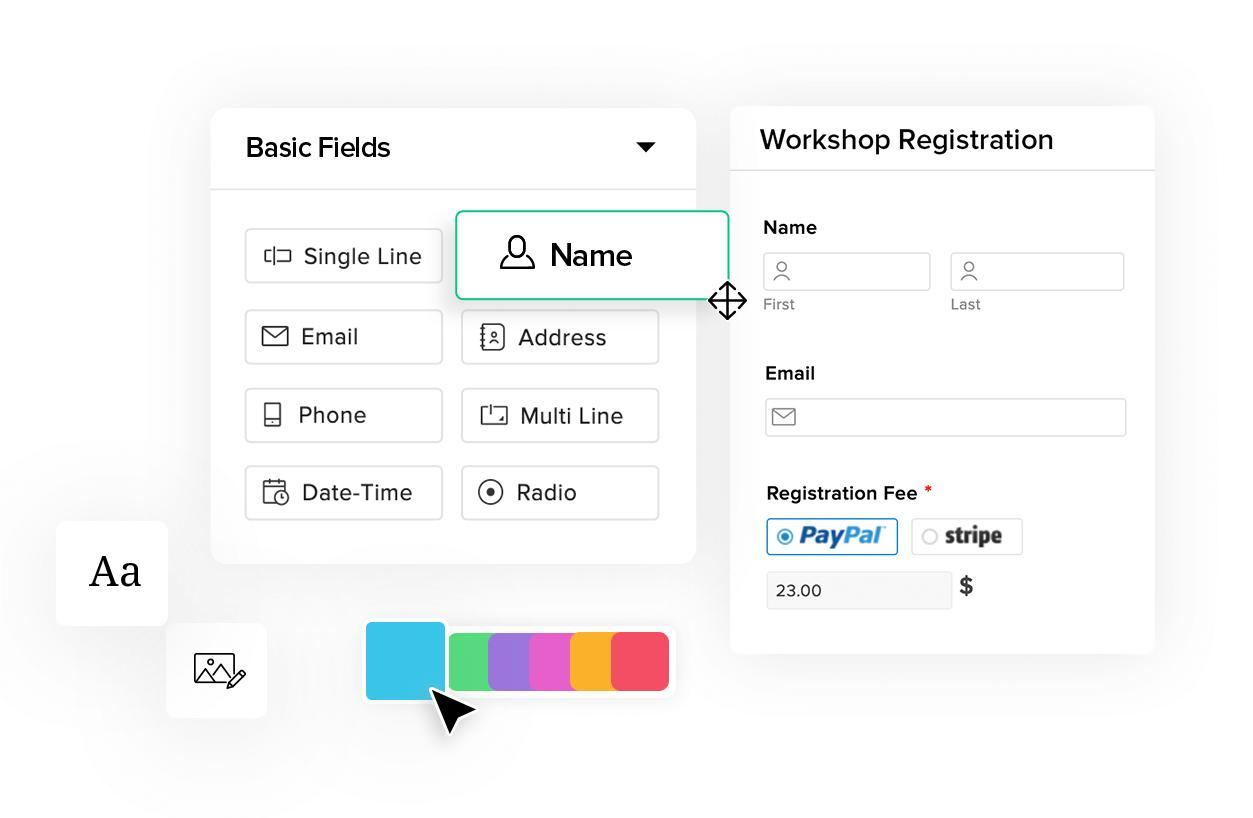button: (246, 228, 443, 285), (464, 310, 659, 366), (245, 466, 444, 520), (246, 387, 442, 441), (462, 390, 659, 443), (246, 313, 445, 364), (462, 467, 659, 518), (769, 518, 899, 555), (914, 517, 1024, 555)
dropdown: (236, 127, 667, 169)
icon: (498, 227, 542, 280), (477, 316, 511, 355), (475, 400, 515, 429), (259, 241, 295, 272), (257, 319, 294, 349), (259, 474, 292, 506), (476, 479, 509, 506), (768, 404, 802, 429), (955, 259, 984, 286), (766, 256, 792, 286), (264, 398, 285, 434)
input: (766, 399, 1127, 436), (952, 253, 1126, 294), (765, 572, 951, 607), (762, 253, 932, 291)
radio: (921, 528, 939, 547), (778, 529, 794, 546)
